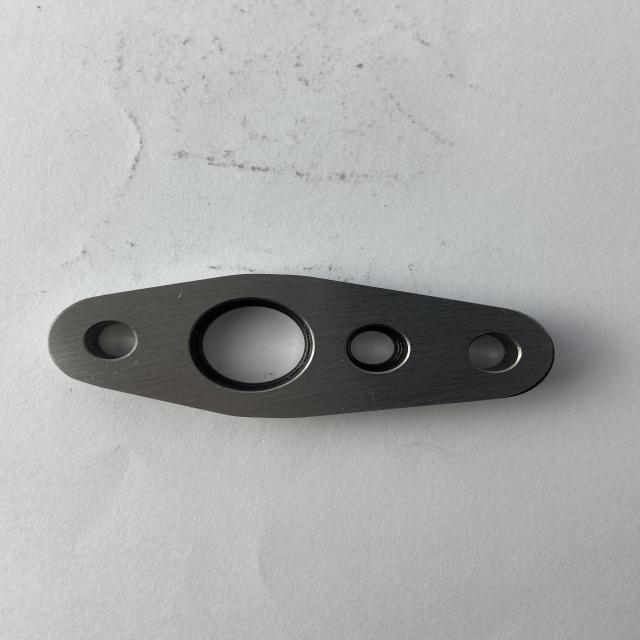chap: (177, 293, 183, 298), (216, 385, 220, 389), (340, 359, 344, 362)
